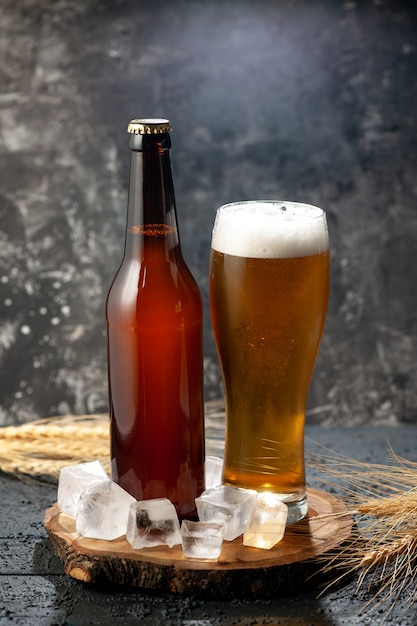alcohol: (102, 119, 208, 528), (209, 201, 333, 490)
